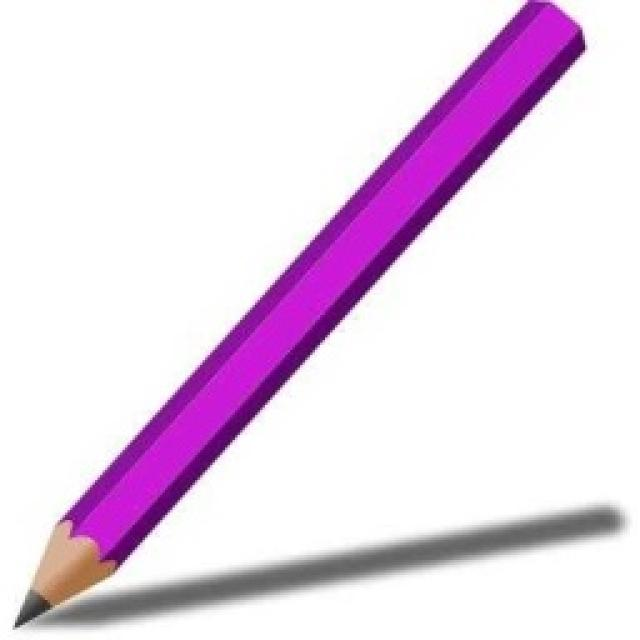pencil: (5, 0, 615, 632)
